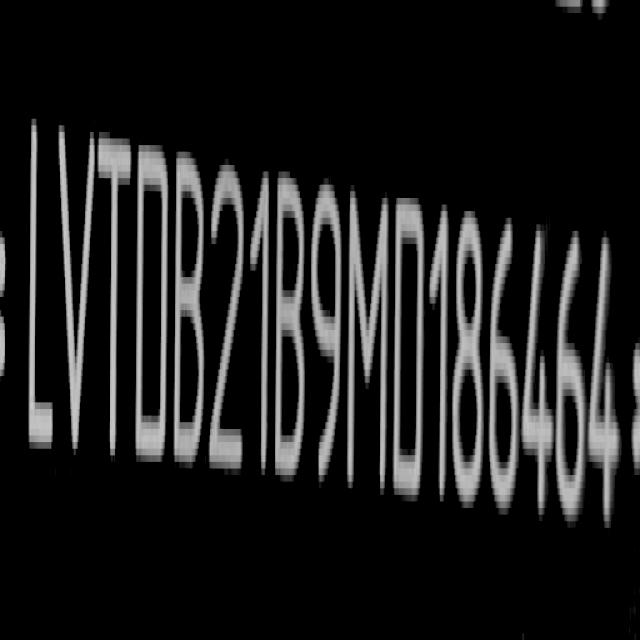1: (428, 195, 451, 513), (250, 161, 272, 488)
2: (209, 157, 246, 487)
4: (592, 229, 626, 540), (522, 218, 555, 527)
6: (489, 210, 522, 520), (555, 226, 587, 533)
8: (454, 205, 487, 514)
9: (311, 177, 344, 496)
B: (174, 146, 209, 482), (275, 167, 307, 489)
D: (134, 129, 168, 478), (395, 186, 428, 509)
L: (21, 106, 55, 469)
M: (348, 179, 391, 505)
T: (100, 124, 130, 473)
V: (54, 110, 96, 470)
